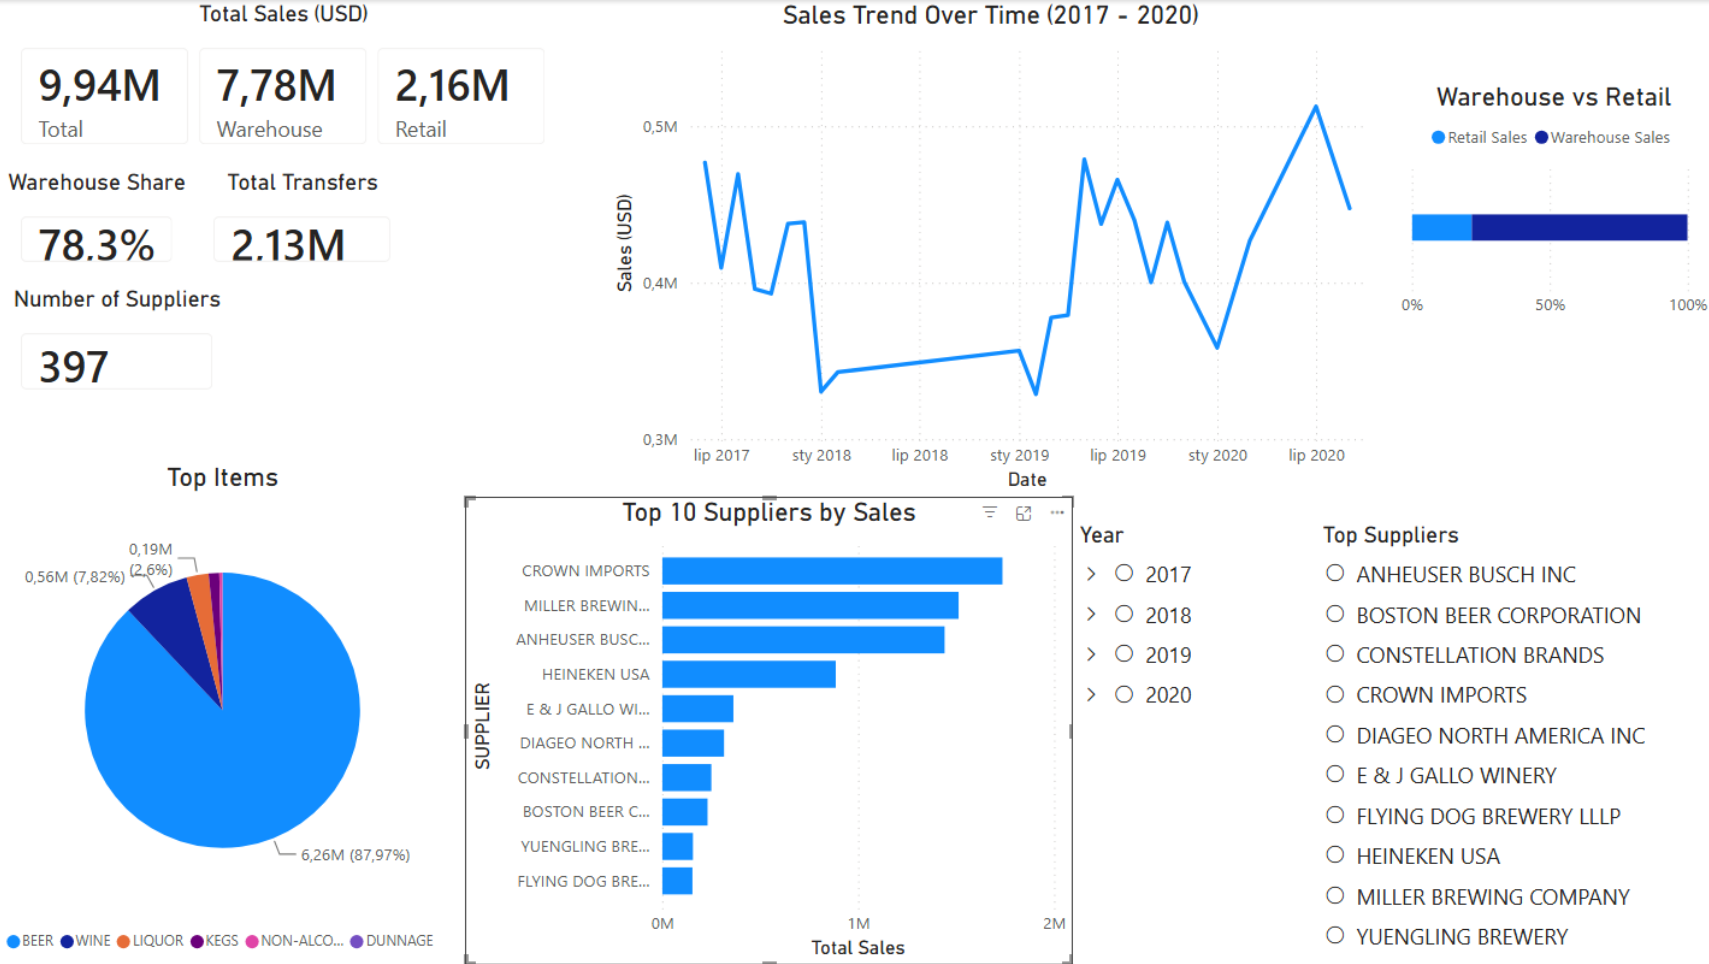

The dashboard page shown, as its layout file describes it:
{"tool":"powerbi","page":{"name":"Total Sales","canvas":[1280,720],"ordinal":0},"visuals":[{"type":"lineChart","title":"Sales Trend Over Time (2017 - 2020)","fields":{"Y":["Warehouse_and_Retail_Sales.Total Sales"],"Category":["Warehouse_and_Retail_Sales.Date"]},"box":[454.3,0,571.9,370.8],"z":0},{"type":"clusteredBarChart","title":"Top 10 Suppliers by Sales","fields":{"Category":["Warehouse_and_Retail_Sales.SUPPLIER"],"Y":["Warehouse_and_Retail_Sales.Total Sales"]},"box":[348.3,370.8,453.4,349.2],"z":2000},{"type":"listSlicer","fields":{"Values":["Warehouse_and_Retail_Sales.Date.Variation.Date Hierarchy.Year","Warehouse_and_Retail_Sales.Date.Variation.Date Hierarchy.Quarter","Warehouse_and_Retail_Sales.Date.Variation.Date Hierarchy.Month"]},"box":[801.7,388.7,181.3,331.3],"z":3000},{"type":"listSlicer","fields":{"Values":["Warehouse_and_Retail_Sales.SUPPLIER"]},"box":[983,388.7,297.2,331.3],"z":4000},{"type":"hundredPercentStackedBarChart","title":"Warehouse vs Retail","fields":{"Y":["Sum(Warehouse_and_Retail_Sales.WAREHOUSE SALES)","Sum(Warehouse_and_Retail_Sales.RETAIL SALES)"]},"box":[1040.5,61,239.7,184.9],"z":5000},{"type":"cardVisual","title":"Total Sales (USD)","fields":{"Data":["Warehouse_and_Retail_Sales.Total Sales","Sum(Warehouse_and_Retail_Sales.WAREHOUSE SALES)","Sum(Warehouse_and_Retail_Sales.RETAIL SALES)"]},"box":[0,0,425.5,125.7],"z":6000},{"type":"cardVisual","title":"Warehouse Share","fields":{"Data":["Warehouse_and_Retail_Sales.Warehouse Share %"]},"box":[0,125.7,147.2,87.1],"z":7000},{"type":"cardVisual","title":"Total Transfers","fields":{"Data":["Warehouse_and_Retail_Sales.Total Transfers"]},"box":[143.6,125.7,167,87.1],"z":8000},{"type":"cardVisual","title":"Number of Suppliers","fields":{"Data":["Warehouse_and_Retail_Sales.Number of Suppliers"]},"box":[0,212.8,177.8,95.2],"z":9000},{"type":"pieChart","title":"Top Items","fields":{"Category":["Warehouse_and_Retail_Sales.ITEM TYPE"],"Y":["Warehouse_and_Retail_Sales.Total Sales"]},"box":[0,344.7,334.9,375.3],"z":9001}]}

Visuals, with their boxes in screenshot pixels (x1, y1, x2, y2), scaled from the page's 1280x720 canvas onto the 1709x964 screenshot:
"Sales Trend Over Time (2017 - 2020)" lineChart: 607 0 1370 496
"Top 10 Suppliers by Sales" clusteredBarChart: 465 496 1070 963
listSlicer - Warehouse_and_Retail_Sales.Date.Variation.Date Hierarchy.Year x Warehouse_and_Retail_Sales.Date.Variation.Date Hierarchy.Quarter: 1070 520 1312 963
listSlicer - Warehouse_and_Retail_Sales.SUPPLIER: 1312 520 1708 963
"Warehouse vs Retail" hundredPercentStackedBarChart: 1389 82 1708 329
"Total Sales (USD)" cardVisual: 0 0 568 168
"Warehouse Share" cardVisual: 0 168 197 285
"Total Transfers" cardVisual: 192 168 415 285
"Number of Suppliers" cardVisual: 0 285 237 412
"Top Items" pieChart: 0 462 447 963
